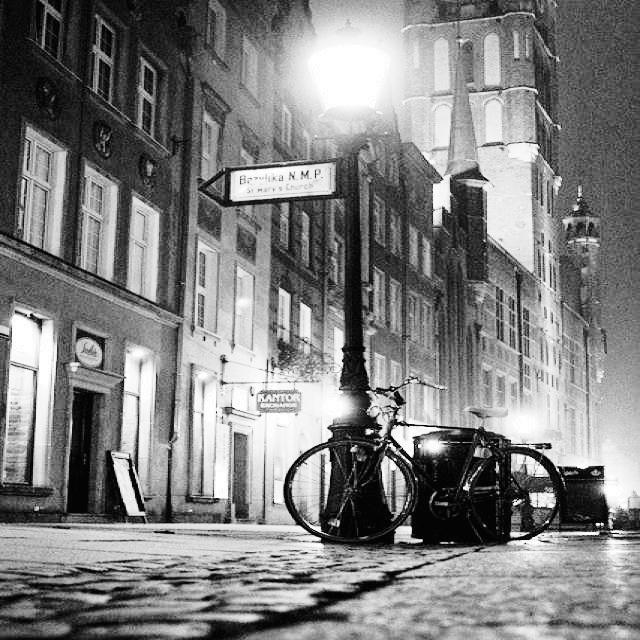Bicycle: (310, 401, 601, 569)
